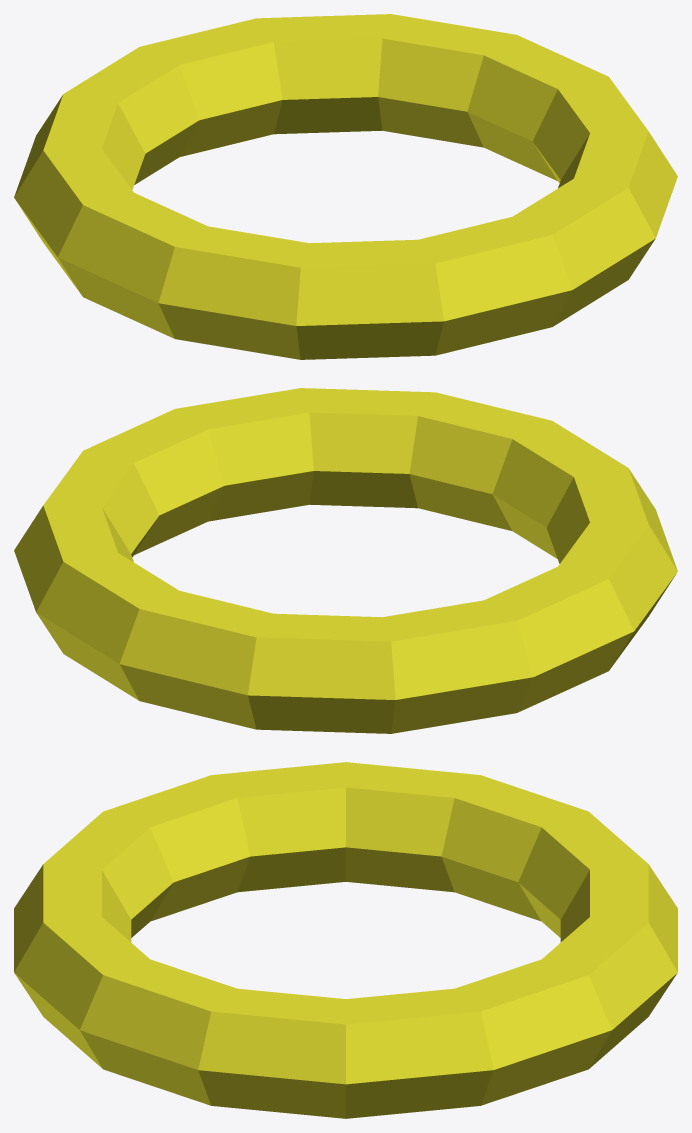
File: playerRing.glb
3 renders of one model, top to bottom at view 1: azimuth 30°, elevation 25°; view 2: azimuth 150°, elevation 25°; view 3: azimuth 270°, elevation 25°, orthographic. The views are drawn at different scales.
Visible parts, largest first — view 1: TorusNew; view 2: TorusNew; view 3: TorusNew.
Boxes of the visible parts, x1,y1,x2,y2 form: TorusNew: [14, 14, 677, 359]; TorusNew: [14, 388, 677, 733]; TorusNew: [14, 762, 677, 1118].
Bounding box in the file's own units: 5.1 × 0.7794 × 4.97.
